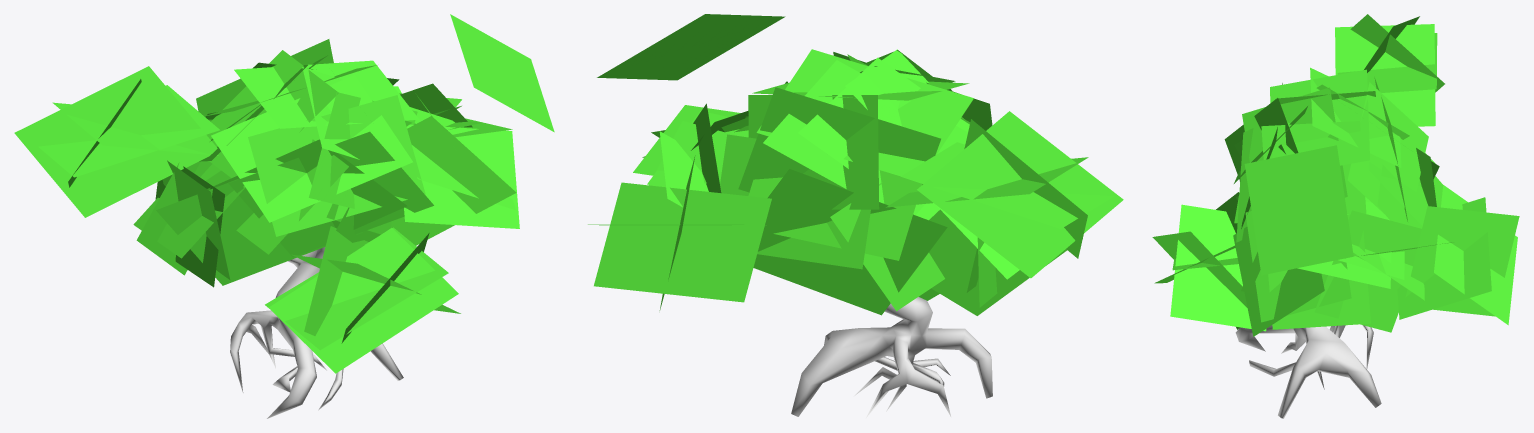
Rendered from TreeA 2 LOD1.fbx.
The picture shows the model from 3 angles, left to right: view 1: azimuth 30°, elevation 25°; view 2: azimuth 150°, elevation 25°; view 3: azimuth 270°, elevation 25°; orthographic projection. The views are drawn at different scales.
Parts seen in each view (by area): view 1: TreeA 2 LOD1; view 2: TreeA 2 LOD1; view 3: TreeA 2 LOD1.
Boxes of the visible parts, x1,y1,x2,y2 form: TreeA 2 LOD1: (14, 14, 554, 418); TreeA 2 LOD1: (588, 14, 1123, 417); TreeA 2 LOD1: (1152, 14, 1519, 418).
Size of the model in its own units: 7.41 by 6.93 by 10.67.
